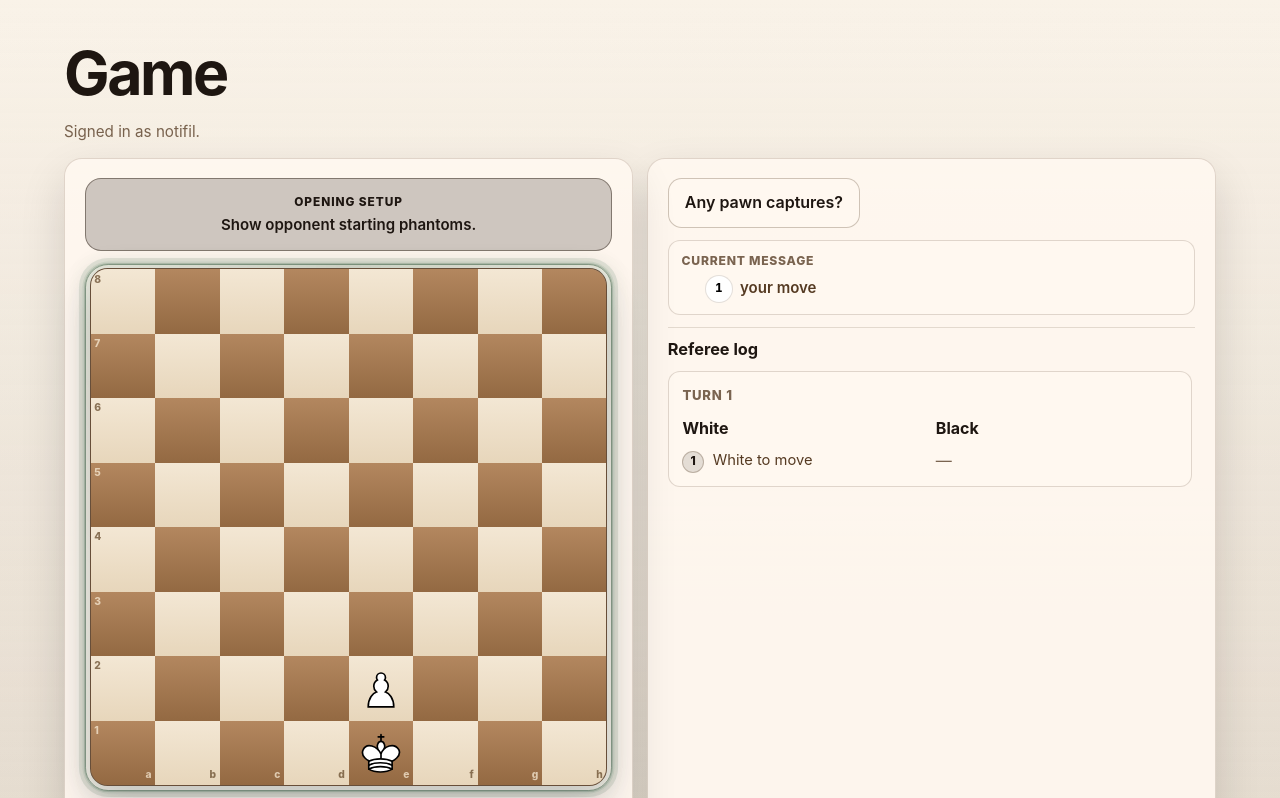
GamePage › shows_rand_stalemate_win_from_game_over_submit_response
Click the button named "Square e2" at (381, 688), box [349,656,413,721]
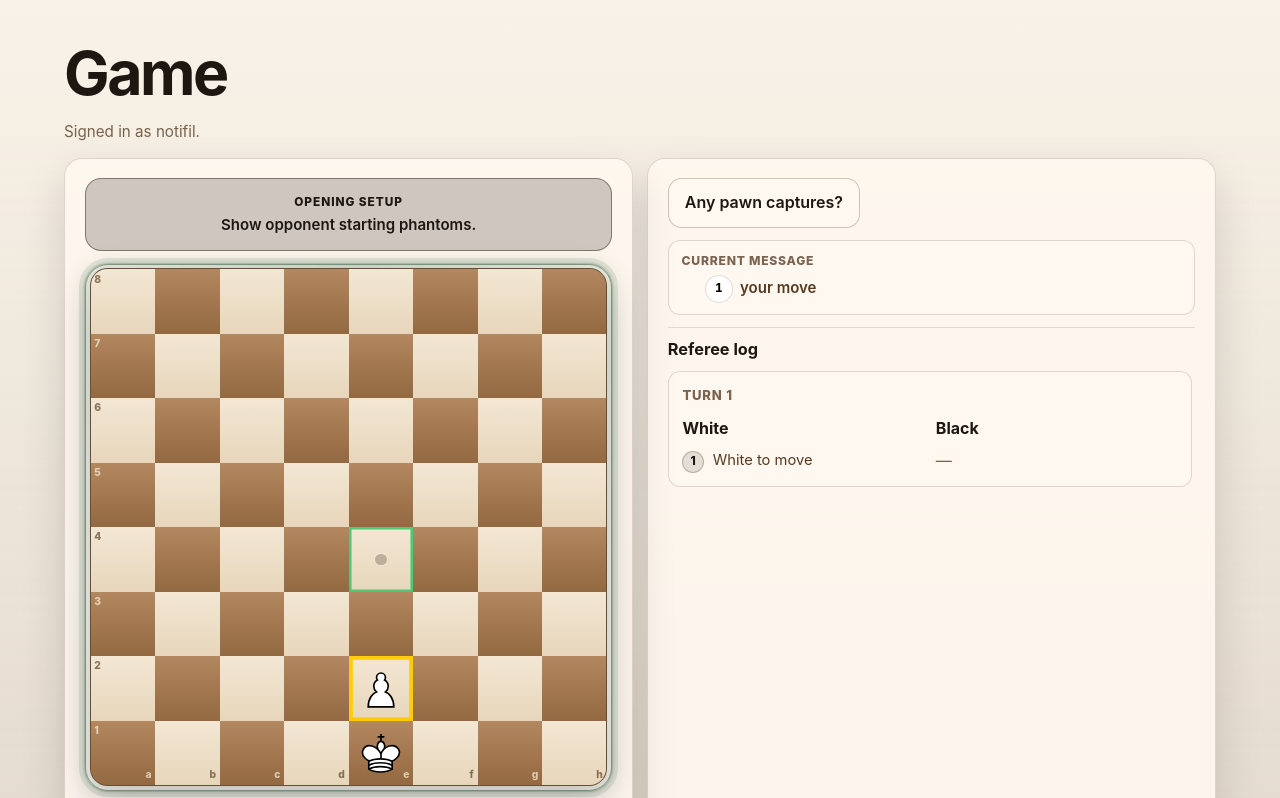
Click the button named "Square e4" at (381, 559), box [349,527,413,592]
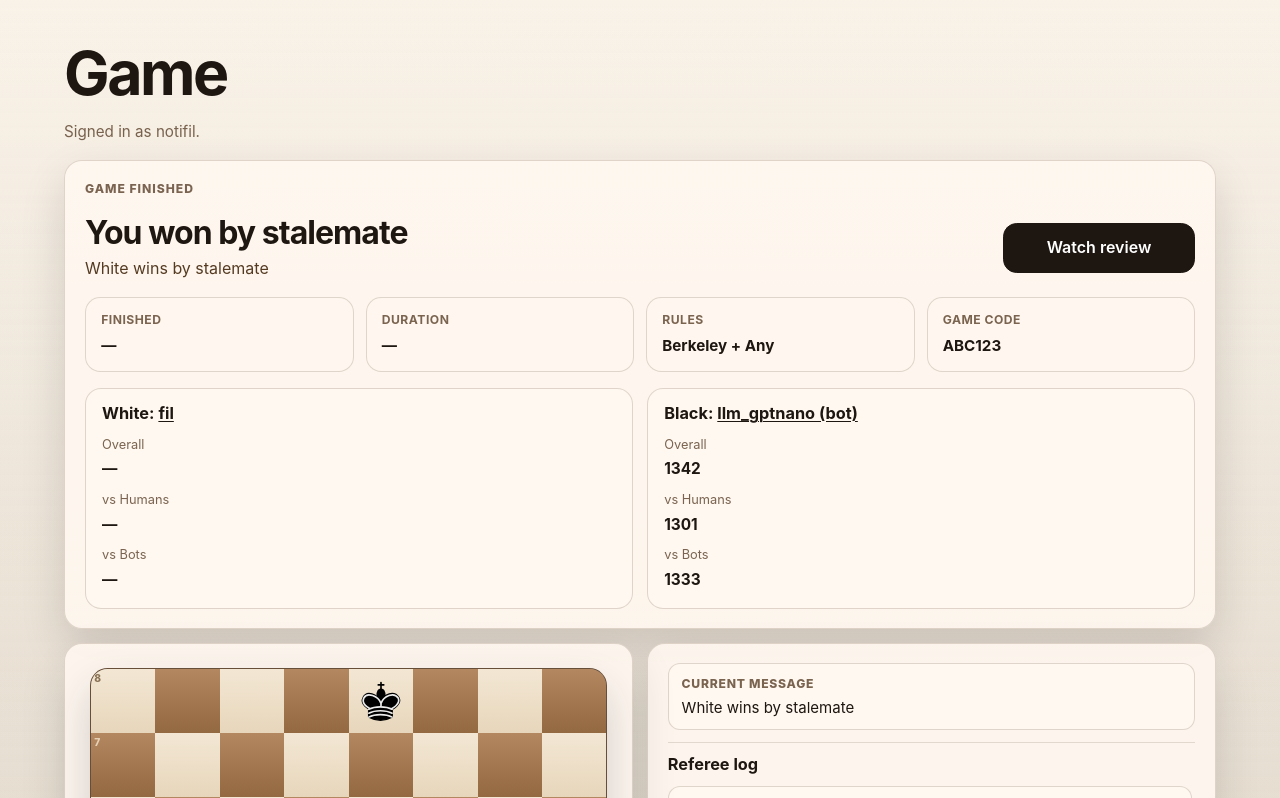
Expected: the heading "You won by stalemate" is shown, [85,215,408,250]
Expected: the text "White wins by stalemate" below "You won by stalemate" is shown, [85,258,269,278]
